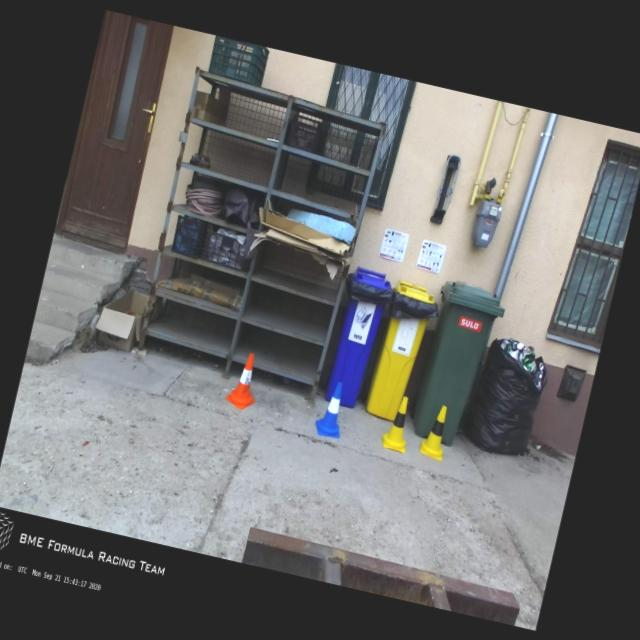blue_cone: (313, 378, 352, 439)
orange_cone: (223, 349, 265, 412)
yellow_cone: (378, 394, 416, 454), (418, 402, 453, 462)
